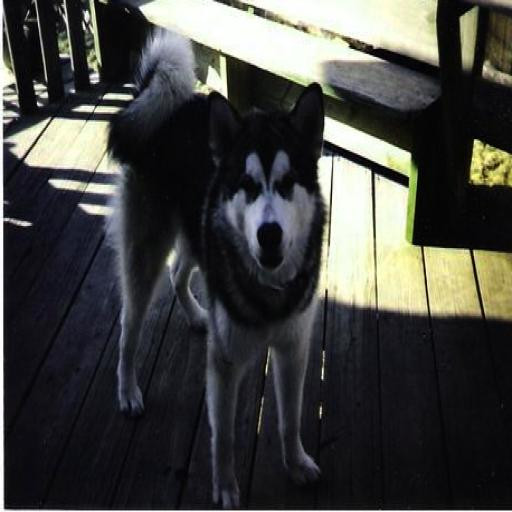dog_face: (202, 82, 326, 275)
